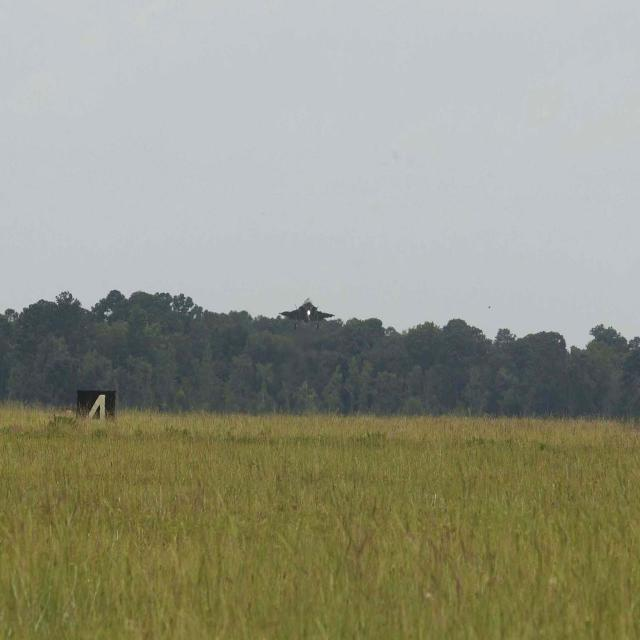MIL_Plane: (279, 298, 335, 330)
